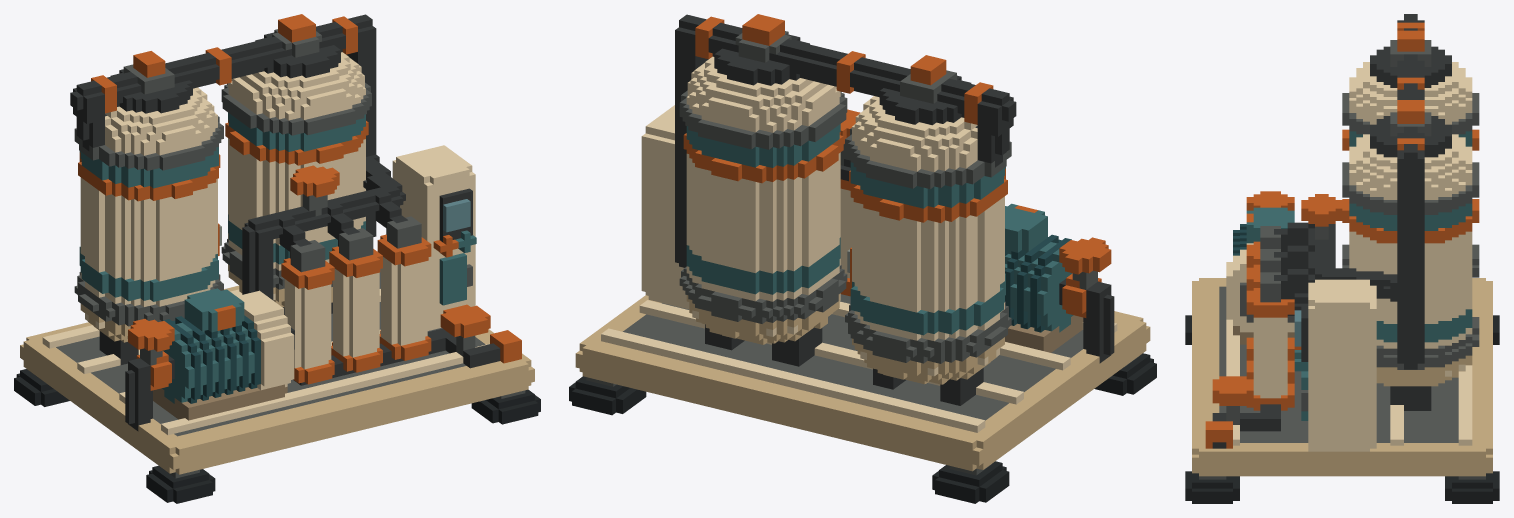
File: water_purifier.glb
3 views of the same model, side by side, from view 1: azimuth 30°, elevation 25°; view 2: azimuth 150°, elevation 25°; view 3: azimuth 270°, elevation 25° (orthographic). The views are drawn at different scales.
Visible parts, largest first — view 1: water_purifier; view 2: water_purifier; view 3: water_purifier.
Boxes of the visible parts, left/top/right/bottom form: water_purifier: left=14, top=14, right=540, bottom=503; water_purifier: left=569, top=14, right=1156, bottom=503; water_purifier: left=1185, top=14, right=1499, bottom=503.
Bounding box in the file's own units: 4.96 × 4.32 × 3.68.
